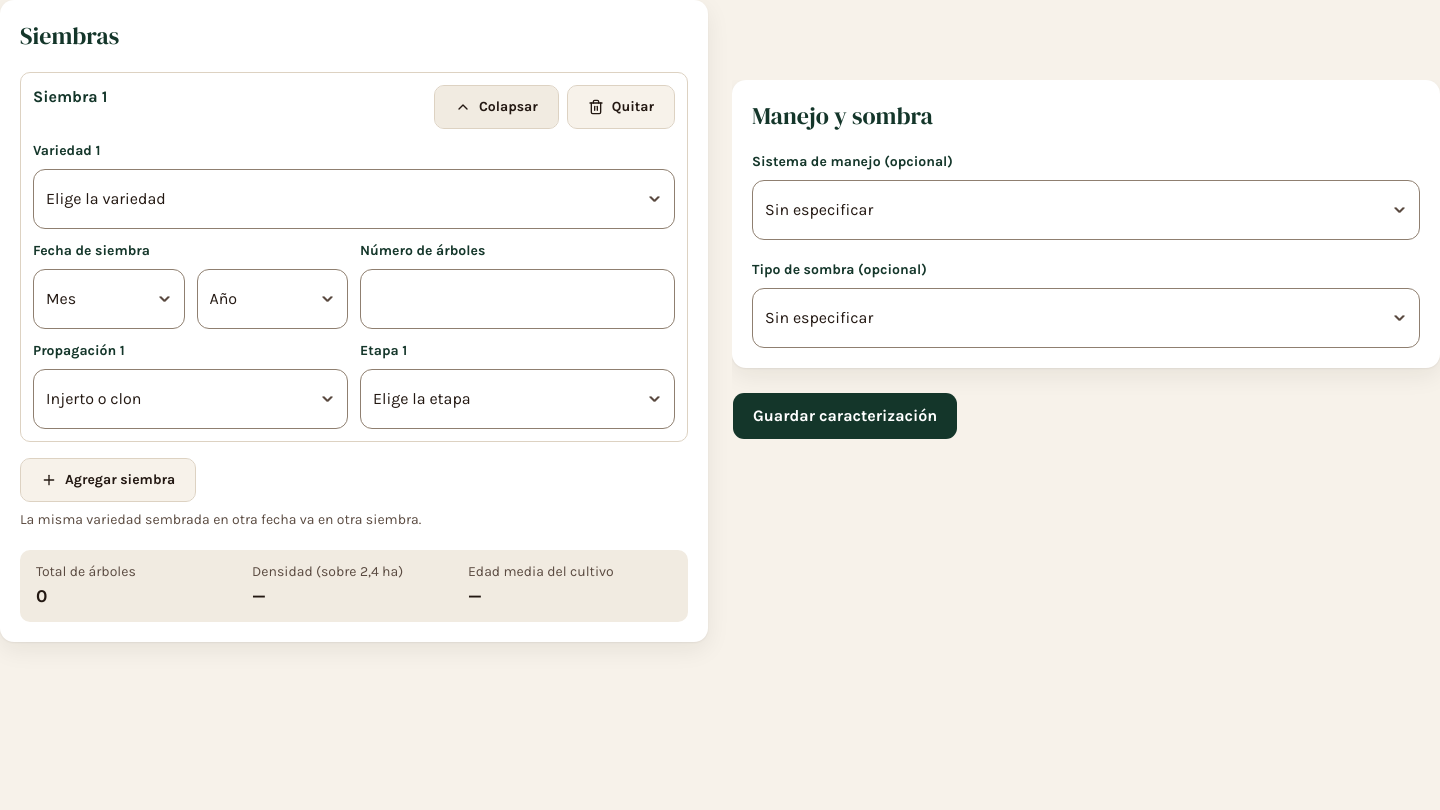
Test case: CharacterizationForm › asks for a variety when every line was removed
The width and height of the screenshot is (1440, 810).
Click the button with aria-label "Quitar siembra 1" at (621, 107), box [567,85,675,129]
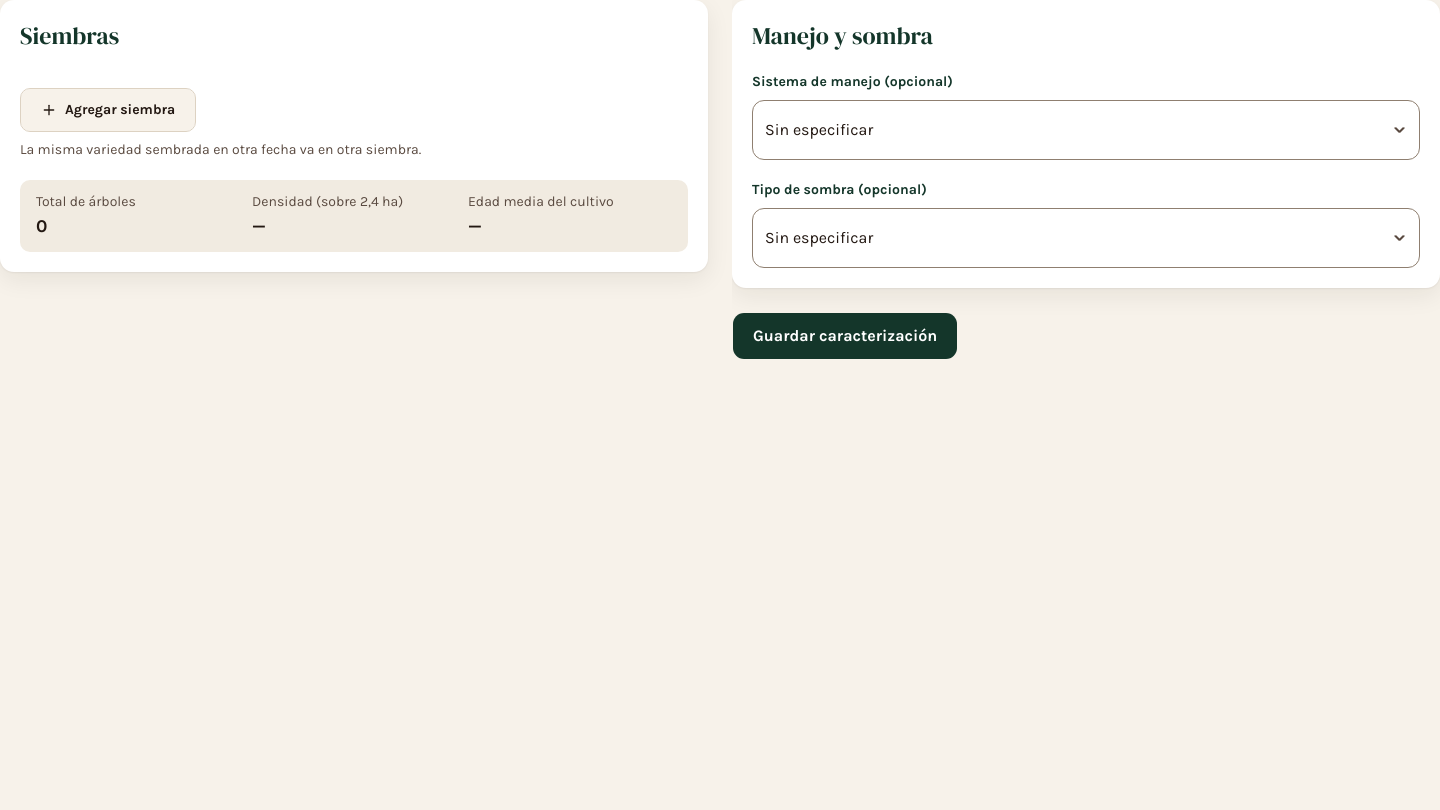
Click the button "Guardar caracterización" at (845, 336), box [732,312,958,360]
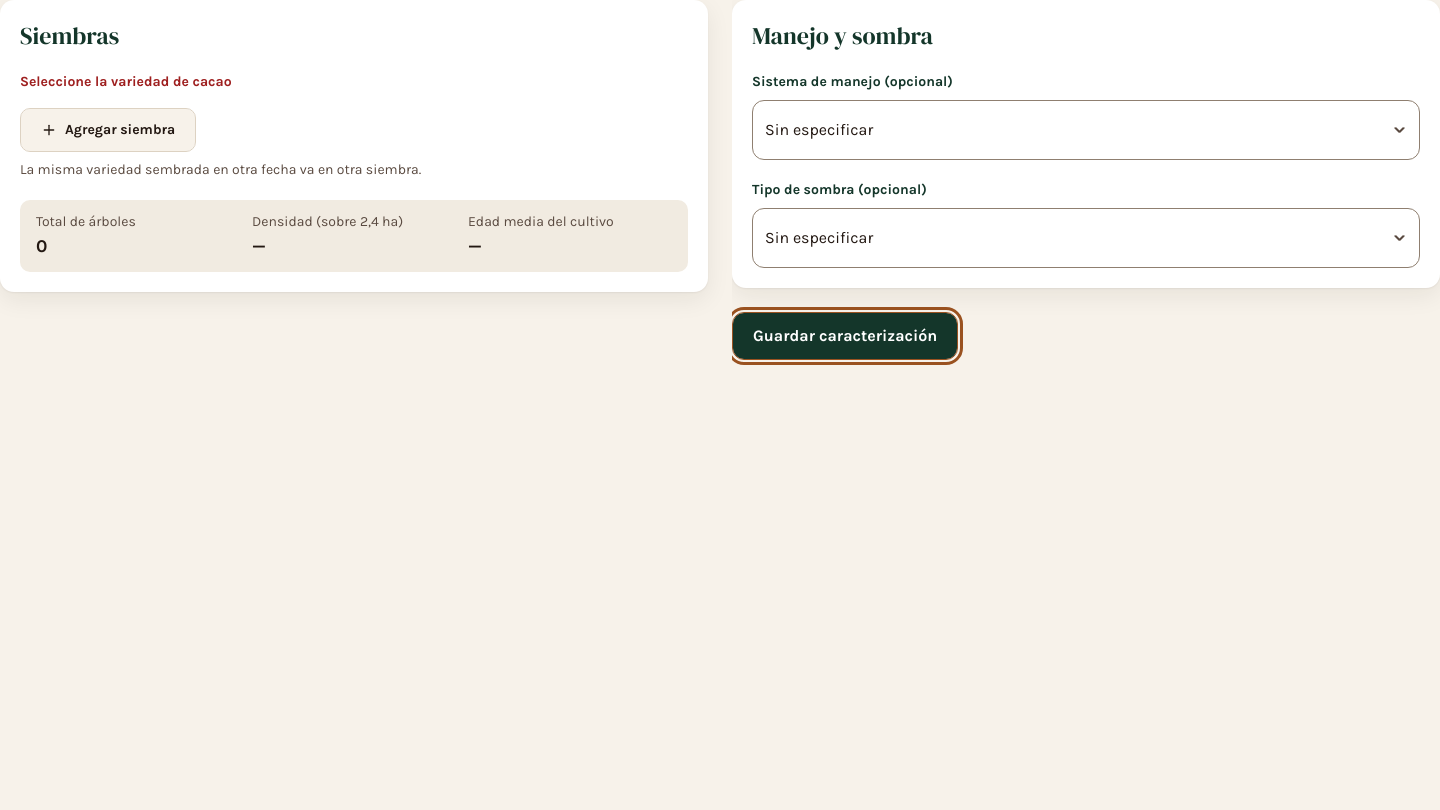
Now the text "Seleccione la variedad de cacao" is shown, box [20,73,232,90]
